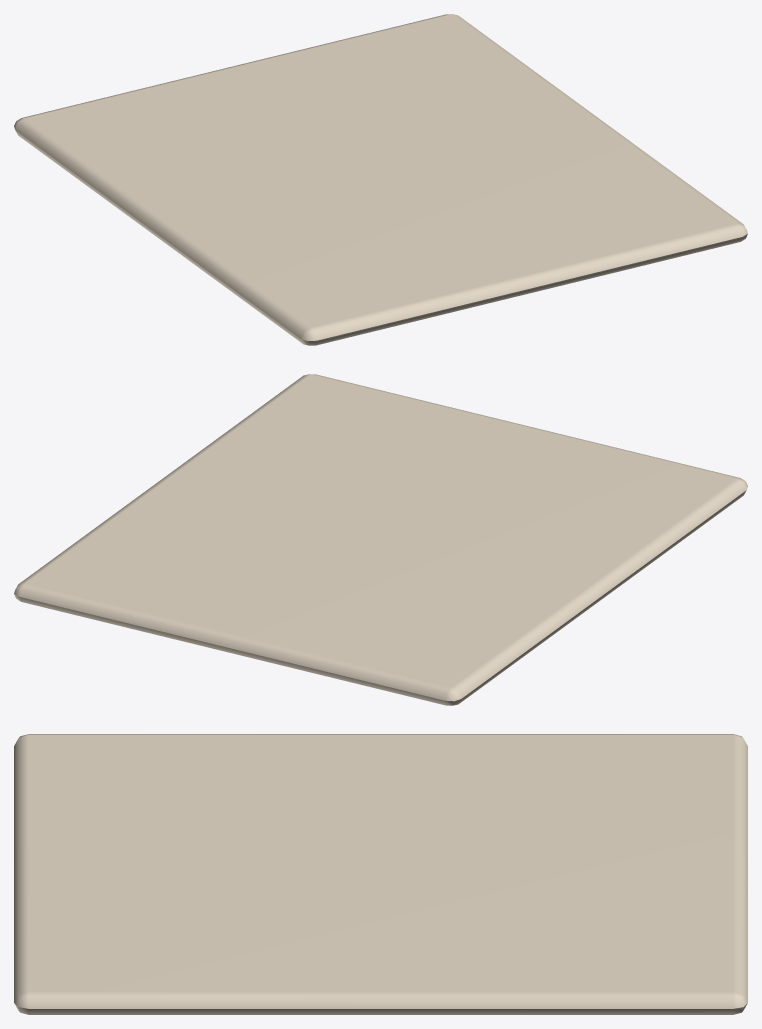
Rendered from ikea_daggkapor_beige_00624593.glb.
The picture shows the model from 3 angles, top to bottom: view 1: azimuth 30°, elevation 25°; view 2: azimuth 150°, elevation 25°; view 3: azimuth 270°, elevation 25°; orthographic projection. The views are drawn at different scales.
Parts seen in each view (by area): view 1: throw; view 2: throw; view 3: throw.
Boxes of the visible parts, left/top/right/bottom form: throw: left=14, top=14, right=747, bottom=345; throw: left=14, top=374, right=747, bottom=705; throw: left=14, top=734, right=747, bottom=1014.
Size of the model in its own units: 0.65 by 0.025 by 0.75.
